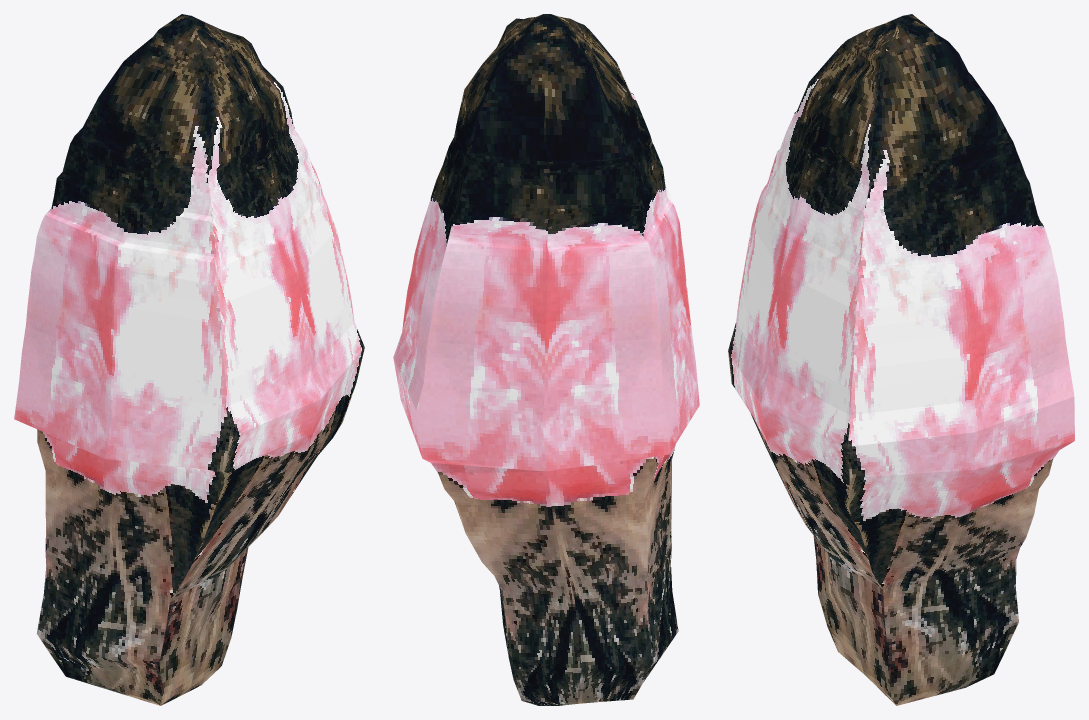
File: metamorphosis_v12_transparent.glb
3 renders of one model, left to right at view 1: azimuth 30°, elevation 25°; view 2: azimuth 150°, elevation 25°; view 3: azimuth 270°, elevation 25°, orthographic. The views are drawn at different scales.
Visible parts, largest first — view 1: metamorphosis_12; view 2: metamorphosis_12; view 3: metamorphosis_12.
Boxes of the visible parts, <box> form: metamorphosis_12: <box>14,14,364,705</box>; metamorphosis_12: <box>393,14,699,705</box>; metamorphosis_12: <box>728,14,1074,705</box>.
Size of the model in its own units: 1.55 by 3.38 by 1.53.
2 materials, 1 textured.
